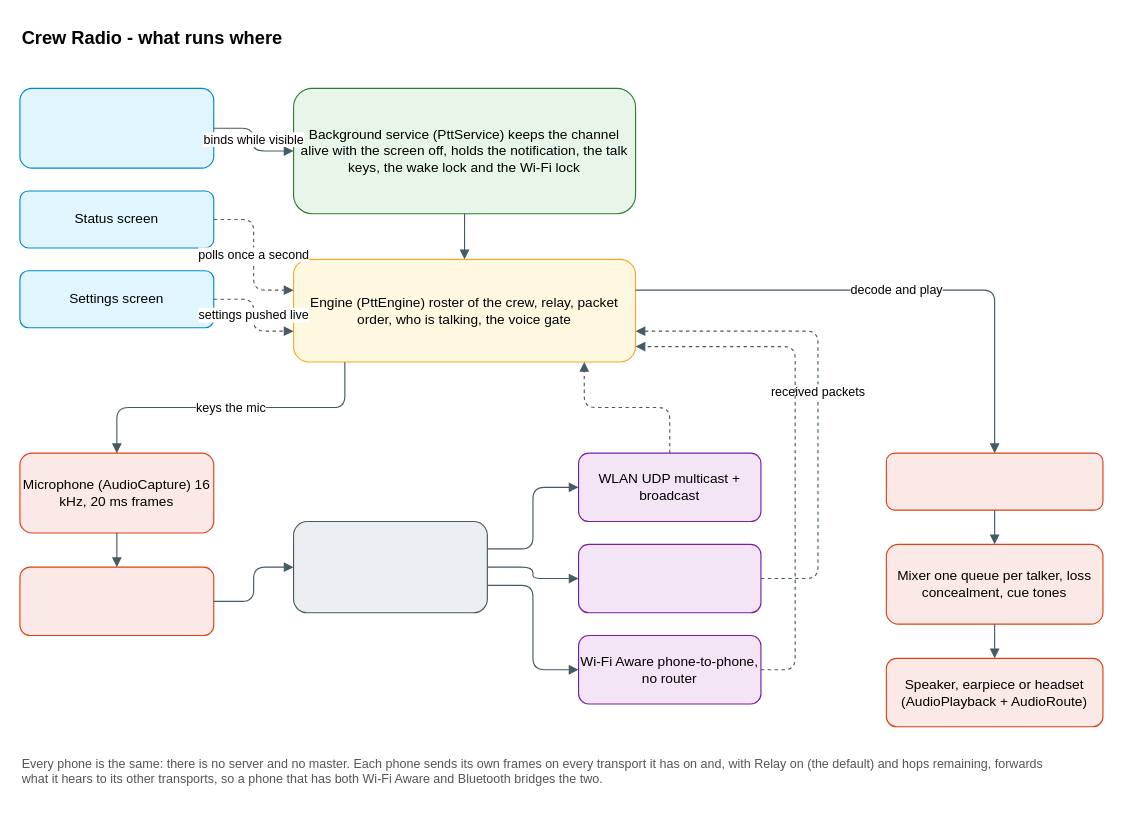
The diagram is 1123 pixels wide and 837 high, and some of its shapes have lost their labels. Here are the shapes that lost their labels. From the top down, the centre of each, then its label:
[116,127]: Main screen (MainActivity)
[994,481]: Opus decoder per talker
[389,566]: Packet 13-byte header + Opus/PCM frame, or a hello (roster heartbeat)
[669,578]: Bluetooth RFCOMM link to one peer
[116,601]: Opus encoder (platform codec)
